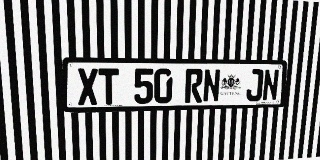0: (154, 69, 173, 104)
5: (134, 68, 153, 104)
J: (246, 69, 264, 101)
N: (202, 69, 221, 102), (262, 69, 280, 101)
R: (185, 69, 203, 103)
T: (98, 68, 119, 105)
X: (77, 68, 98, 105)
